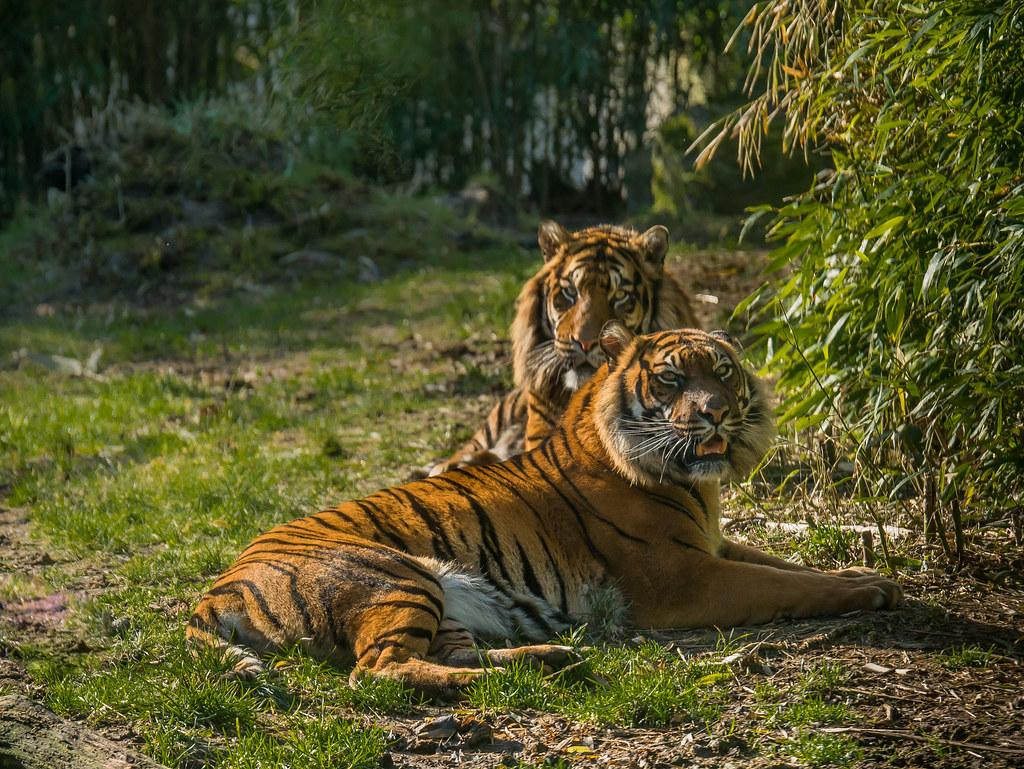tiger: (184, 321, 905, 703), (421, 219, 703, 480)
